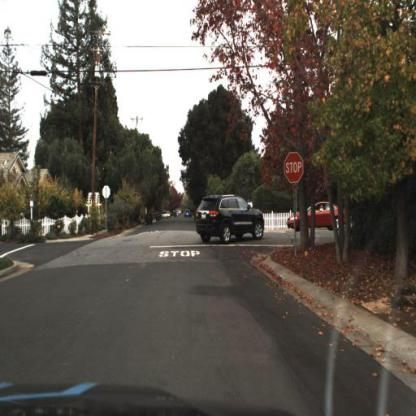car: (193, 193, 269, 245), (288, 197, 352, 238)
